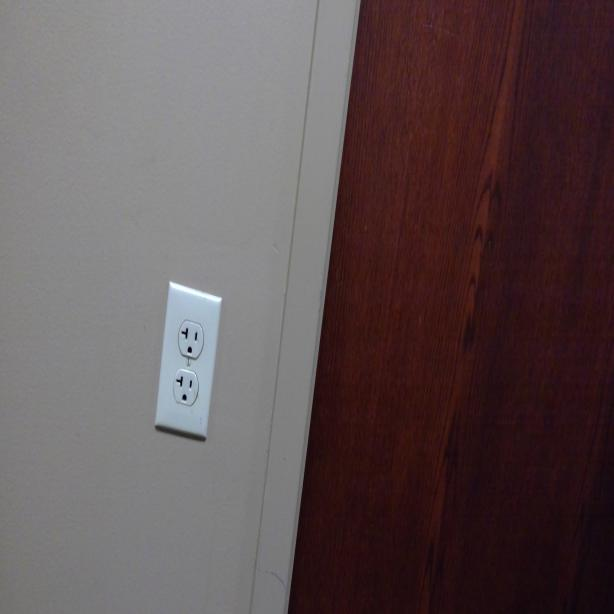typeb: (171, 370, 200, 408), (178, 318, 203, 360)
